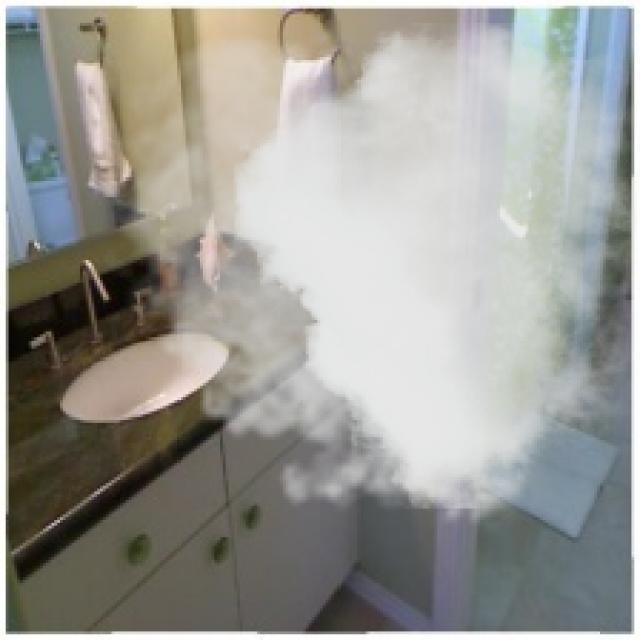Smoke: (92, 23, 638, 540)
